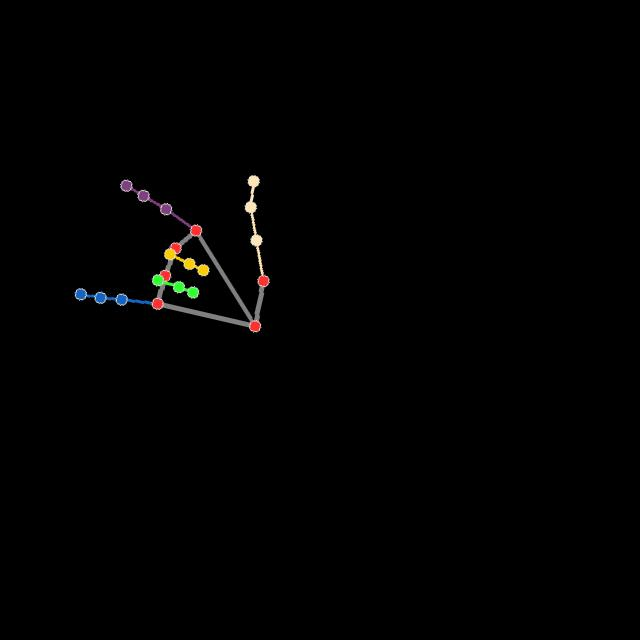spiderman: (72, 172, 272, 342)
